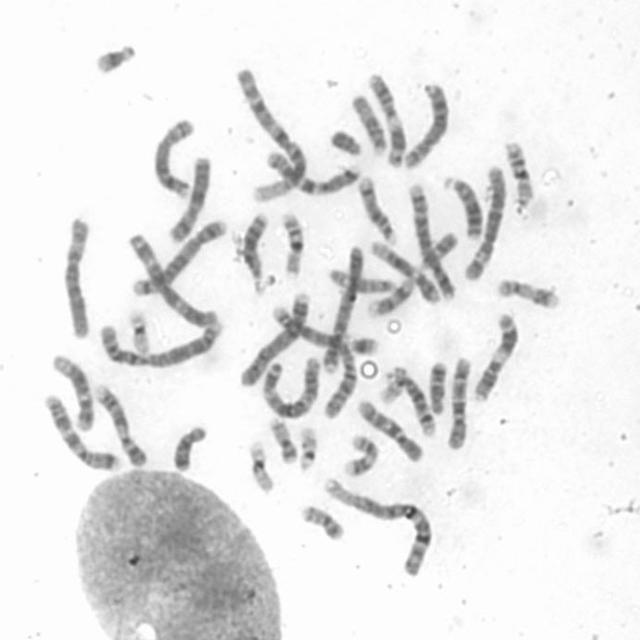A1: (322, 476, 434, 579), (233, 66, 308, 206)
A2: (269, 302, 359, 422), (98, 322, 224, 368)
A3: (124, 232, 218, 328), (261, 354, 319, 418)
B4: (240, 292, 310, 388), (321, 245, 365, 372)
B5: (132, 218, 228, 298), (407, 182, 458, 300)
C10: (356, 399, 425, 462), (444, 354, 472, 450)
C11: (471, 311, 520, 401), (367, 73, 406, 168)
C12: (367, 239, 441, 304), (50, 354, 94, 432)
C6: (461, 165, 506, 280), (64, 217, 94, 340)
C7: (43, 392, 122, 471), (266, 152, 362, 196)
C8: (402, 83, 450, 168), (151, 116, 196, 200)
C9: (369, 231, 459, 317), (94, 382, 148, 468)
D13: (242, 210, 278, 294), (442, 175, 483, 242)
D14: (385, 371, 437, 436), (356, 174, 398, 244)
D15: (350, 95, 388, 156), (327, 268, 397, 294)
E16: (503, 140, 536, 216), (278, 214, 306, 276)
E17: (494, 276, 564, 311), (342, 435, 380, 476)
E18: (173, 426, 209, 472), (429, 360, 448, 415)
F19: (248, 438, 274, 495), (125, 307, 153, 357)
F20: (300, 505, 347, 542), (268, 417, 298, 464)
G21: (92, 42, 140, 81), (344, 334, 380, 357)
G22: (376, 365, 407, 403), (297, 424, 319, 474)
X: (168, 155, 212, 243)
Y: (328, 129, 362, 157)
